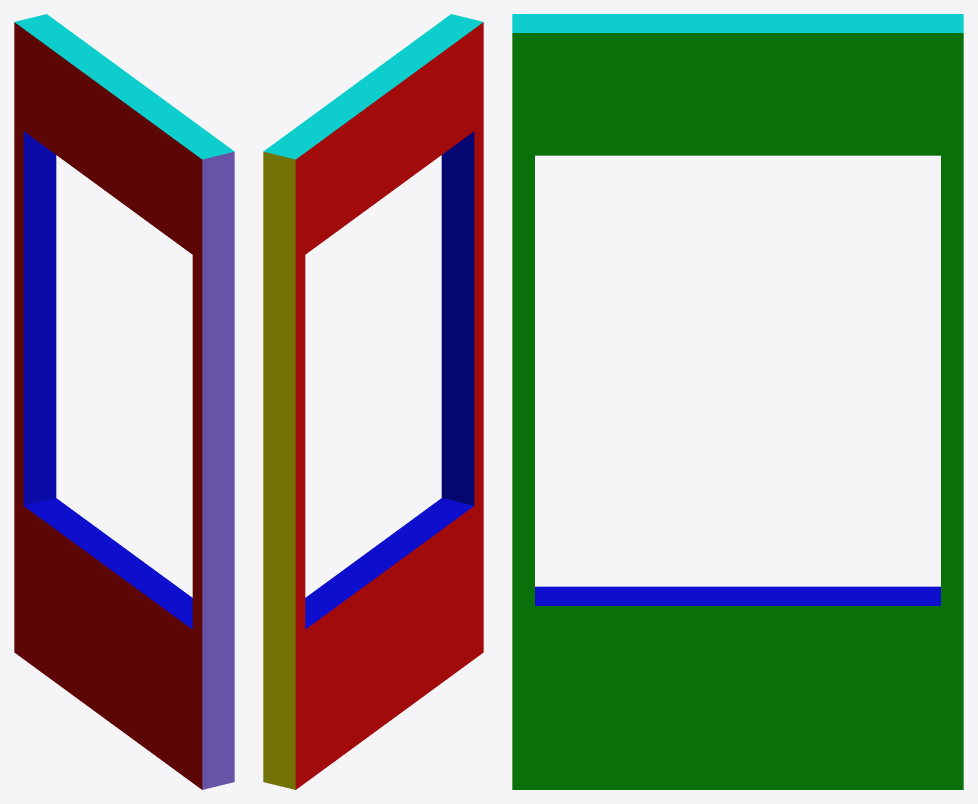
File: Mesh_Wall_06.FBX
3 renders of one model, left to right at view 1: azimuth 30°, elevation 25°; view 2: azimuth 150°, elevation 25°; view 3: azimuth 270°, elevation 25°, orthographic. The views are drawn at different scales.
Parts seen in each view (by area): view 1: Mesh_Wall_06; view 2: Mesh_Wall_06; view 3: Mesh_Wall_06.
Boxes of the visible parts, x1,y1,x2,y2 form: Mesh_Wall_06: [14, 14, 234, 789]; Mesh_Wall_06: [263, 14, 483, 789]; Mesh_Wall_06: [512, 14, 963, 789].
Size of the model in its own units: 20 by 370 by 200.
